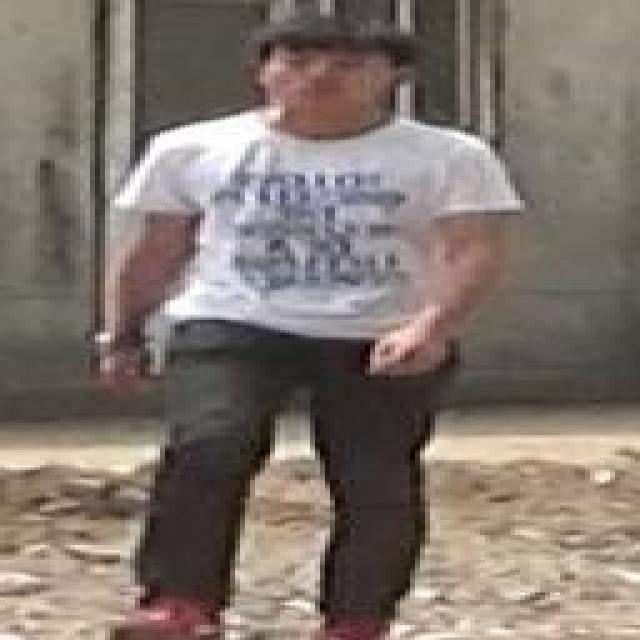adult: (74, 20, 527, 640)
